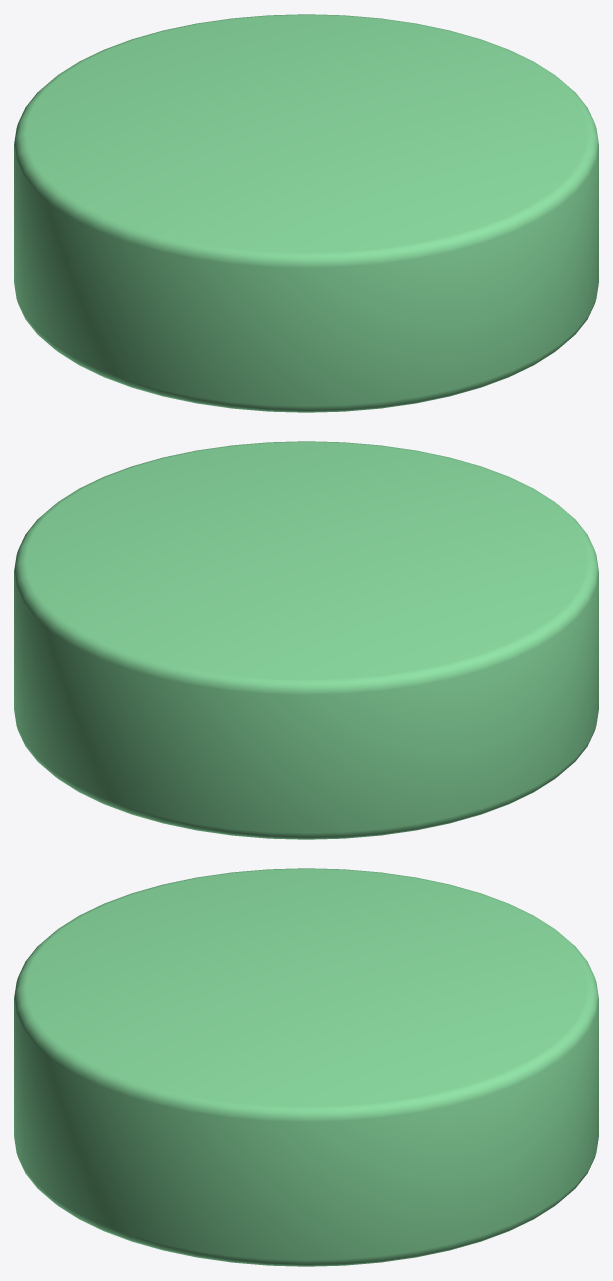
Rendered from SM_FlickDisk_75.fbx.
The picture shows the model from 3 angles, top to bottom: view 1: azimuth 30°, elevation 25°; view 2: azimuth 150°, elevation 25°; view 3: azimuth 270°, elevation 25°; orthographic projection.
Visible parts, largest first — view 1: SM_FlickDisk_75; view 2: SM_FlickDisk_75; view 3: SM_FlickDisk_75.
Part boxes in pixels (box(x1,y1,x2,y2)): SM_FlickDisk_75: box(14, 14, 598, 412); SM_FlickDisk_75: box(14, 441, 598, 839); SM_FlickDisk_75: box(14, 868, 598, 1266).
Bounding box in the file's own units: 0.75 × 0.225 × 0.75.
